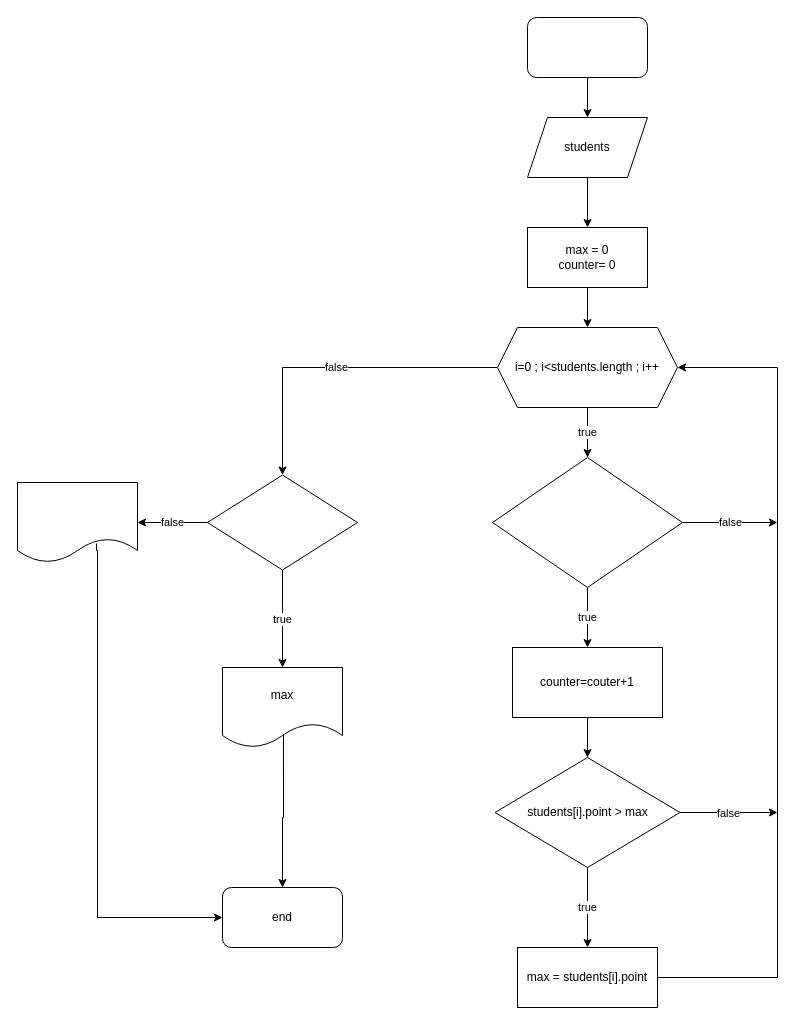
Image size: 803x1025. Some labels were removed from this diagram. The centre of each missing label's shape, as x and y in pixels:
axtarilan qrupdan telebe yoxdur: point 77,522
counter>0: point 282,522
start: point 587,47
students[i].groubNo == "BP202": point 587,522
